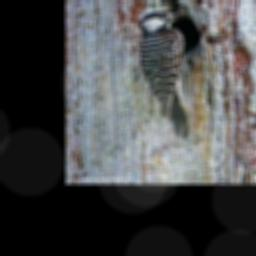Woodpecker: (134, 7, 192, 139)
